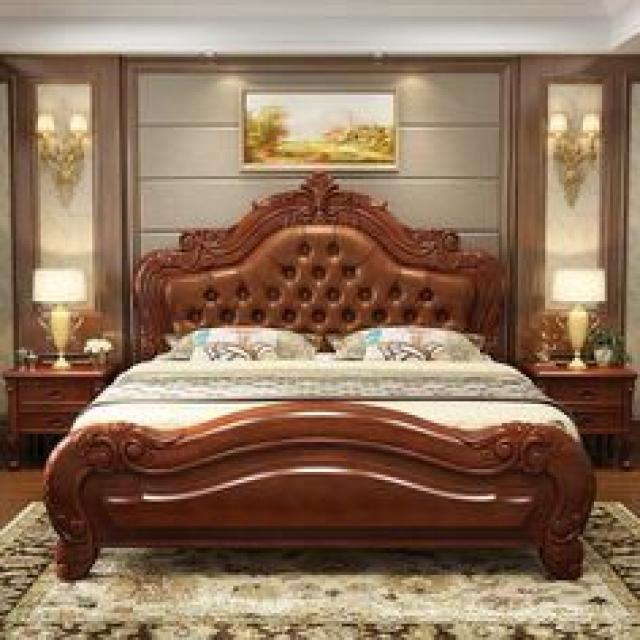bed: (21, 122, 626, 609)
